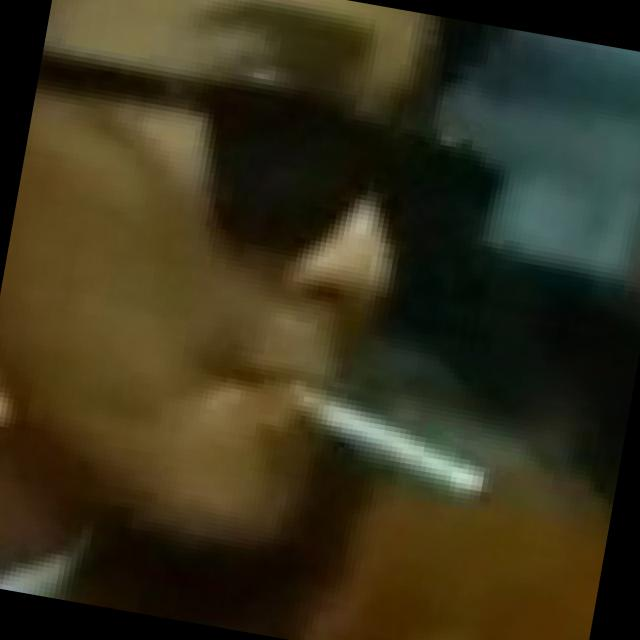smoke: (252, 362, 512, 536)
